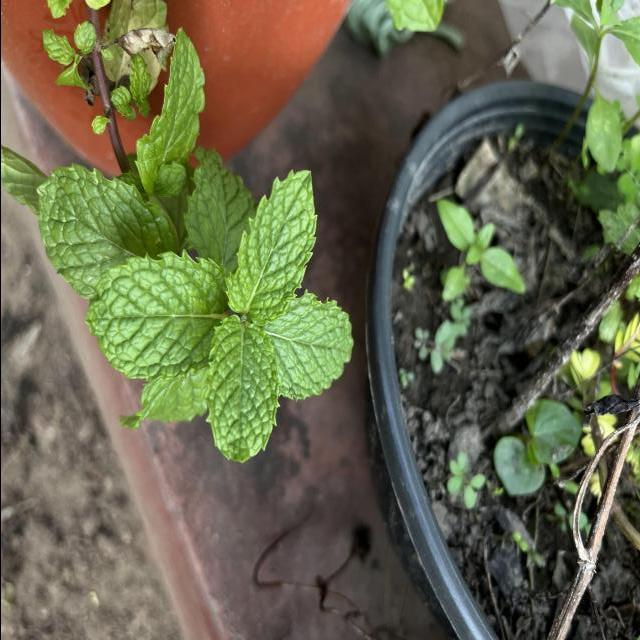Mentha spicata: (82, 248, 226, 383), (220, 167, 318, 328), (201, 312, 281, 466), (270, 288, 355, 400)
